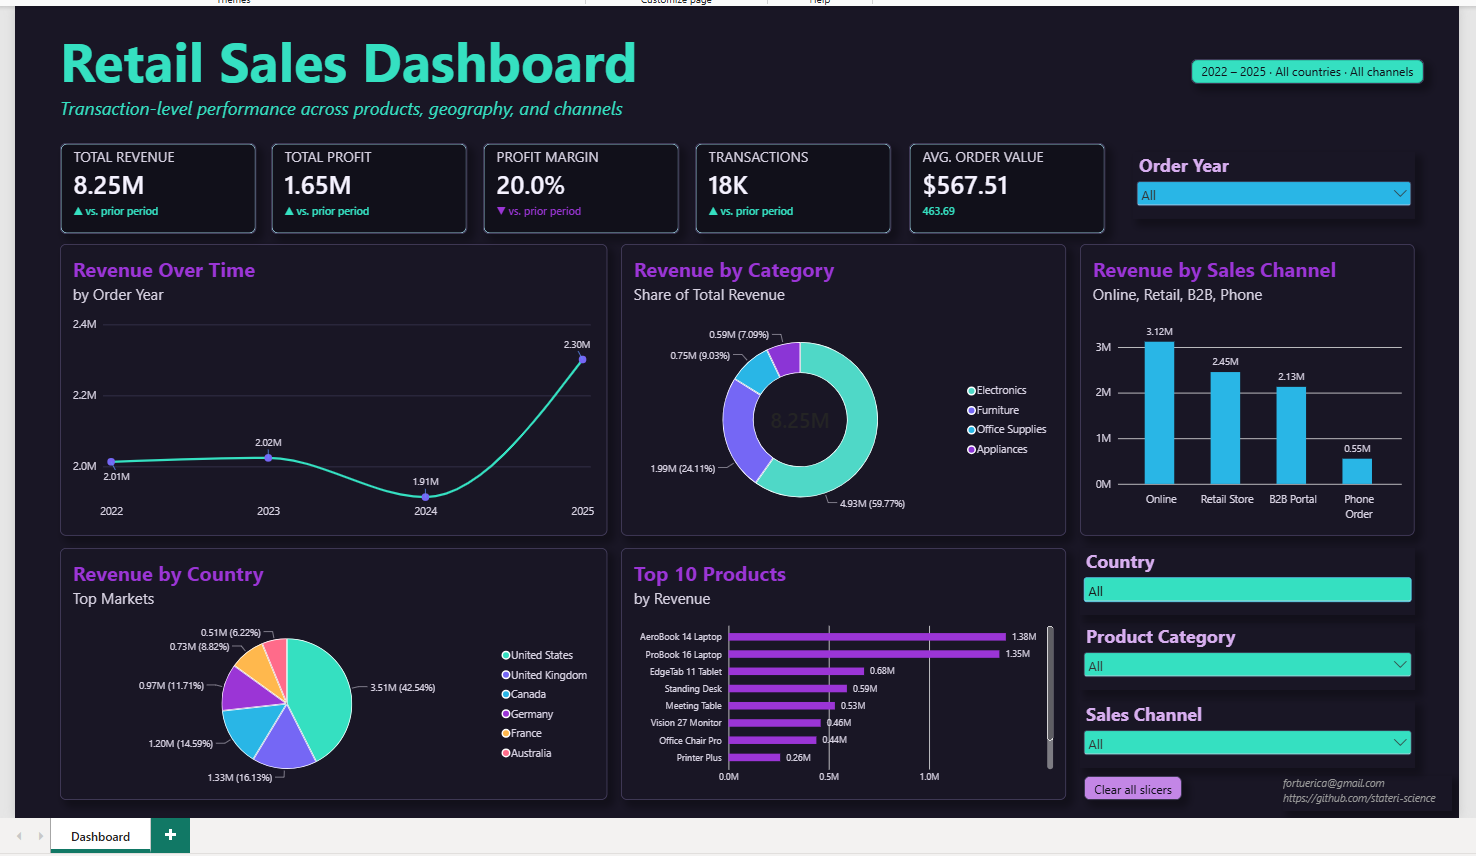

The dashboard page shown, as its layout file describes it:
{"tool":"powerbi","page":{"name":"Dashboard","canvas":[1920,1080],"ordinal":0},"visuals":[{"type":"textbox","box":[59.9,22.6,780.7,130.3],"z":0},{"type":"shape","box":[1564.1,70.5,309.9,33.3],"z":1000},{"type":"cardVisual","fields":{"Data":["sales_clean.Total Revenue"]},"box":[59.8,182.4,261.2,121.1],"z":2000},{"type":"cardVisual","fields":{"Data":["sales_clean.Total Profit"]},"box":[339.9,182.4,261.2,121.1],"z":3000},{"type":"cardVisual","fields":{"Data":["sales_clean.Profit Margin"]},"box":[623,182.4,261.2,121.1],"z":4000},{"type":"cardVisual","fields":{"Data":["sales_clean.Transactions"]},"box":[904.6,182.4,261.2,121.1],"z":5000},{"type":"cardVisual","fields":{"Data":["sales_clean.Avg Order Value"]},"box":[1189.1,182.2,261.2,121.1],"z":6000},{"type":"slicer","fields":{"Values":["sales_clean.Order_Year"]},"box":[1486.7,194,375.1,89.1],"z":7000},{"type":"lineChart","fields":{"Category":["sales_clean.Order_Year"],"Y":["Sum(sales_clean.Sales_Amount)"]},"box":[59.8,316.6,728,388.1],"z":8000},{"type":"donutChart","title":"Revenue by Category","fields":{"Category":["sales_clean.Product_Category_Clean"],"Y":["Sum(sales_clean.Sales_Amount)"]},"box":[806,316.6,591.9,388.4],"z":9000},{"type":"pieChart","title":"Revenue by Country","fields":{"Category":["sales_clean.Country"],"Y":["Sum(sales_clean.Sales_Amount)"]},"box":[59.9,720.9,727.5,335.2],"z":10000},{"type":"clusteredColumnChart","title":"Revenue by Sales Channel","fields":{"Category":["sales_clean.Sales_Channel"],"Y":["Sum(sales_clean.Sales_Amount)"]},"box":[1416.7,316.6,445,388.1],"z":11000},{"type":"clusteredBarChart","title":"Top 10 Products","fields":{"Category":["sales_clean.Product_Name"],"Y":["Sum(sales_clean.Sales_Amount)"]},"box":[806,720.9,591.9,335.2],"z":12000},{"type":"slicer","fields":{"Values":["sales_clean.Country"]},"box":[1416.5,720.9,445.6,89.1],"z":13000},{"type":"slicer","fields":{"Values":["sales_clean.Product_Category_Clean"]},"box":[1416.5,820.6,445.6,89.1],"z":14000},{"type":"slicer","fields":{"Values":["sales_clean.Product_Category_Clean"]},"box":[1416.5,924.4,445.6,89.1],"z":15000},{"type":"actionButton","title":"Reset","box":[1421.8,1024.1,130.3,31.9],"z":16000},{"type":"textbox","box":[1686.5,1024.1,224.8,46.6],"z":17000}]}

Visuals, with their boxes on the page's 1920x1080 design canvas (x1, y1, x2, y2). These are canvas units, not pixel positions in the 1476x856 screenshot, which may show the page scaled, cropped or inside an application window:
textbox: detection(60, 23, 841, 153)
shape: detection(1564, 70, 1874, 104)
cardVisual - sales_clean.Total Revenue: detection(60, 182, 321, 304)
cardVisual - sales_clean.Total Profit: detection(340, 182, 601, 304)
cardVisual - sales_clean.Profit Margin: detection(623, 182, 884, 304)
cardVisual - sales_clean.Transactions: detection(905, 182, 1166, 304)
cardVisual - sales_clean.Avg Order Value: detection(1189, 182, 1450, 303)
slicer - sales_clean.Order_Year: detection(1487, 194, 1862, 283)
lineChart - sales_clean.Order_Year x Sum(sales_clean.Sales_Amount): detection(60, 317, 788, 705)
"Revenue by Category" donutChart: detection(806, 317, 1398, 705)
"Revenue by Country" pieChart: detection(60, 721, 787, 1056)
"Revenue by Sales Channel" clusteredColumnChart: detection(1417, 317, 1862, 705)
"Top 10 Products" clusteredBarChart: detection(806, 721, 1398, 1056)
slicer - sales_clean.Country: detection(1416, 721, 1862, 810)
slicer - sales_clean.Product_Category_Clean: detection(1416, 821, 1862, 910)
slicer - sales_clean.Product_Category_Clean: detection(1416, 924, 1862, 1014)
"Reset" actionButton: detection(1422, 1024, 1552, 1056)
textbox: detection(1686, 1024, 1911, 1071)
